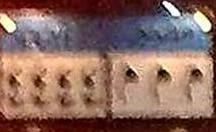4: (54, 66, 78, 112), (28, 67, 52, 111), (81, 67, 104, 109), (4, 66, 27, 107)
meem: (148, 64, 174, 111), (181, 64, 205, 109), (116, 66, 141, 108)
